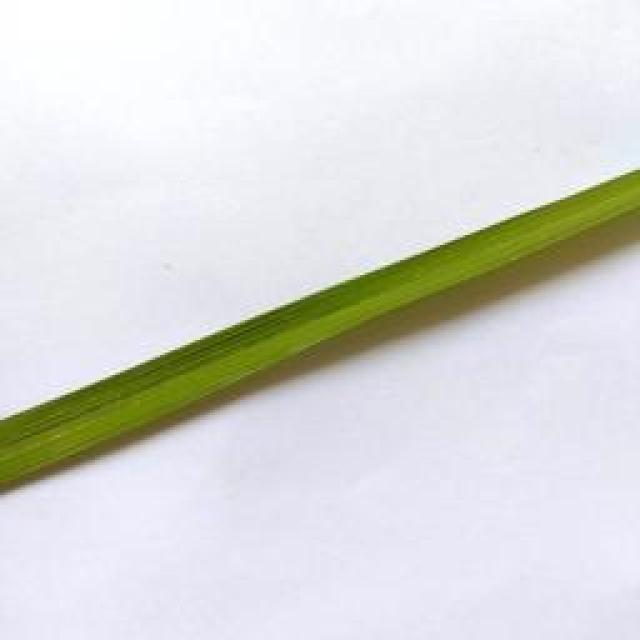Healthy-Plant: (0, 167, 640, 490)
